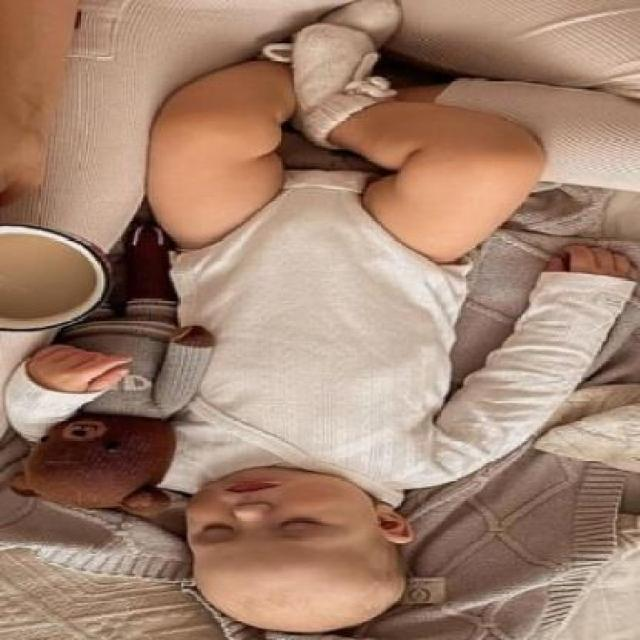baby: (8, 1, 632, 637)
